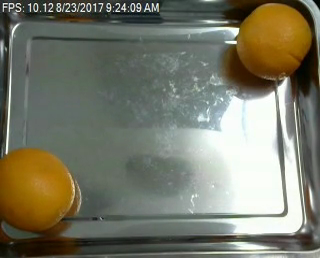Orange: (1, 147, 76, 232), (236, 3, 311, 79)
